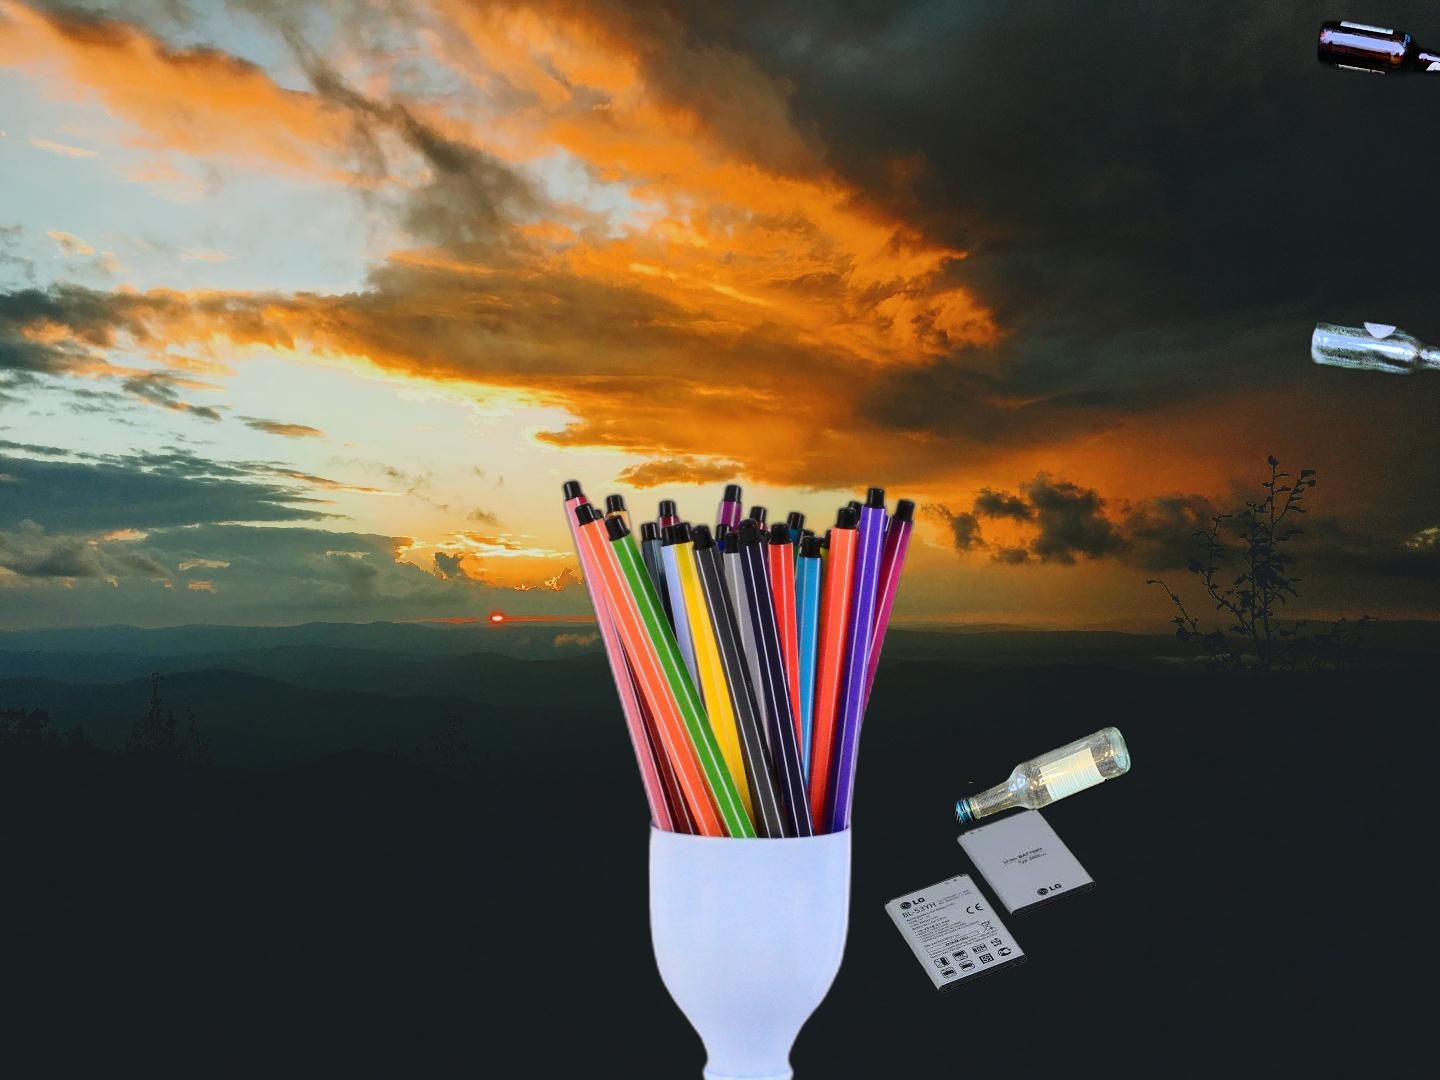battery: (882, 805, 1099, 996)
glass: (763, 720, 1136, 1080), (1304, 14, 1440, 382)
penholder: (556, 473, 922, 1080)
